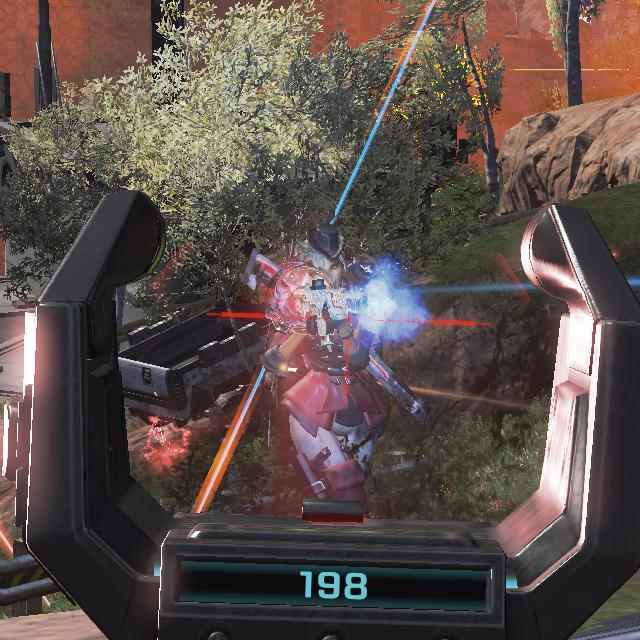avatar: (242, 215, 401, 499)
